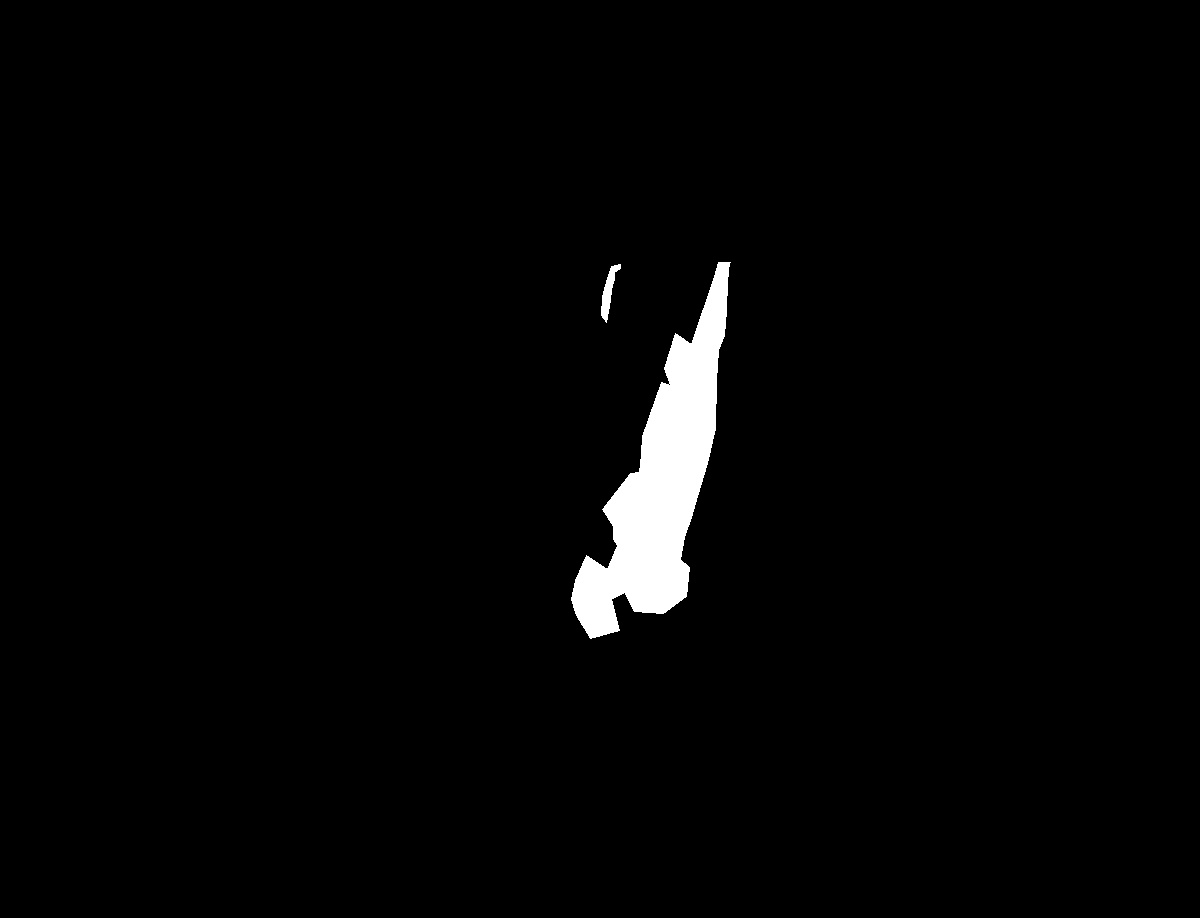Fire: (573, 259, 724, 628)
